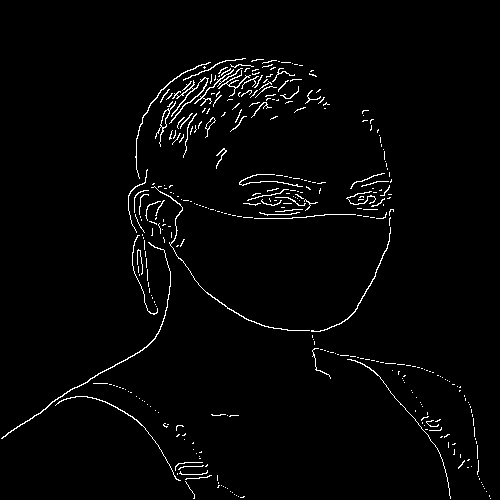mask: (169, 206, 415, 355)
